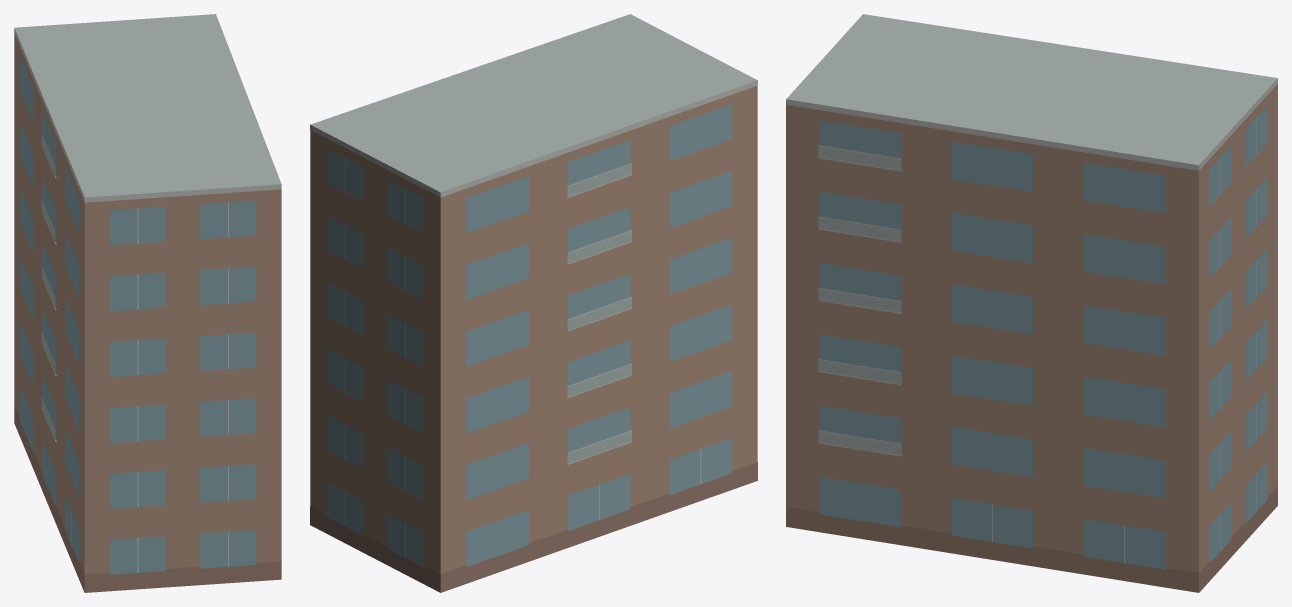
The model's file is survey-upis-32566523.glb.
3 renders of one model, left to right at view 1: azimuth 30°, elevation 25°; view 2: azimuth 150°, elevation 25°; view 3: azimuth 270°, elevation 25°, orthographic. The views are drawn at different scales.
Visible parts, largest first — view 1: survey-upis-32566523.tmp; view 2: survey-upis-32566523.tmp; view 3: survey-upis-32566523.tmp.
Boxes of the visible parts, left/top/right/bottom form: survey-upis-32566523.tmp: left=14, top=14, right=281, bottom=592; survey-upis-32566523.tmp: left=310, top=14, right=757, bottom=592; survey-upis-32566523.tmp: left=786, top=14, right=1277, bottom=592.
Size of the model in its own units: 14.27 by 18.8 by 19.6.
